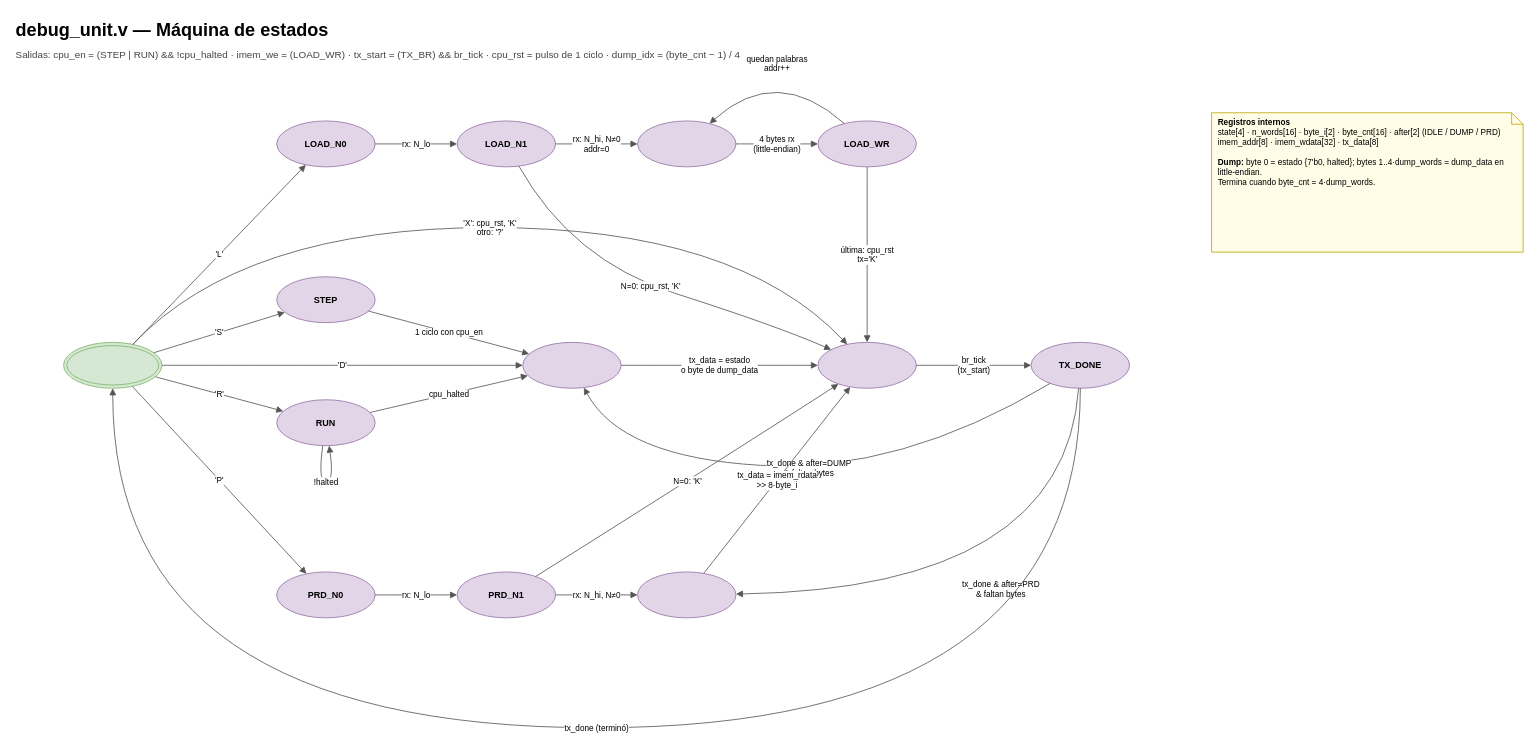
Image size: 1538x746. Some labels were removed from this diagram. Here are the shapes that lost their labels. From the top down, the centre of each, then its label:
At pixel 686 143: "LOAD_W".
At pixel 112 365: "IDLE".
At pixel 571 365: "DUMP".
At pixel 866 365: "TX_BR".
At pixel 686 594: "PRD".
